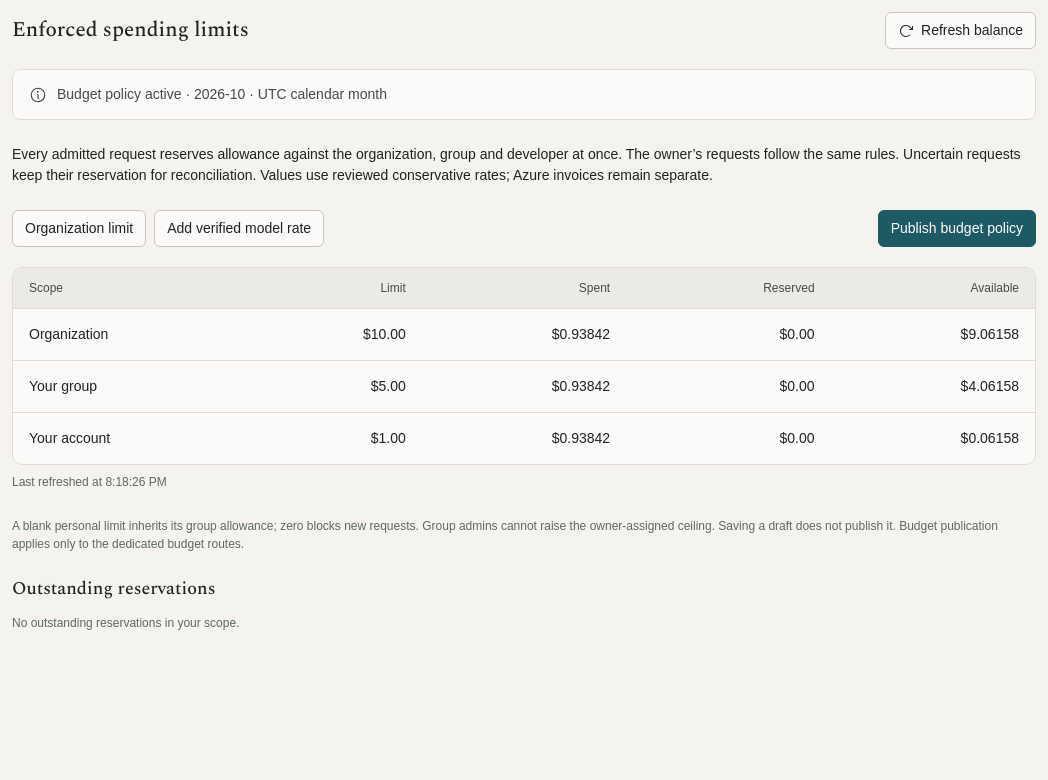
Test case: budget table refresh › retains last loaded balances after failure, marks them stale and recovers on retry
expect the text "$0.06158" is shown: met, box [831,412,1035,464]
Click the button "Refresh balance" at (960, 30), box [885,12,1036,49]
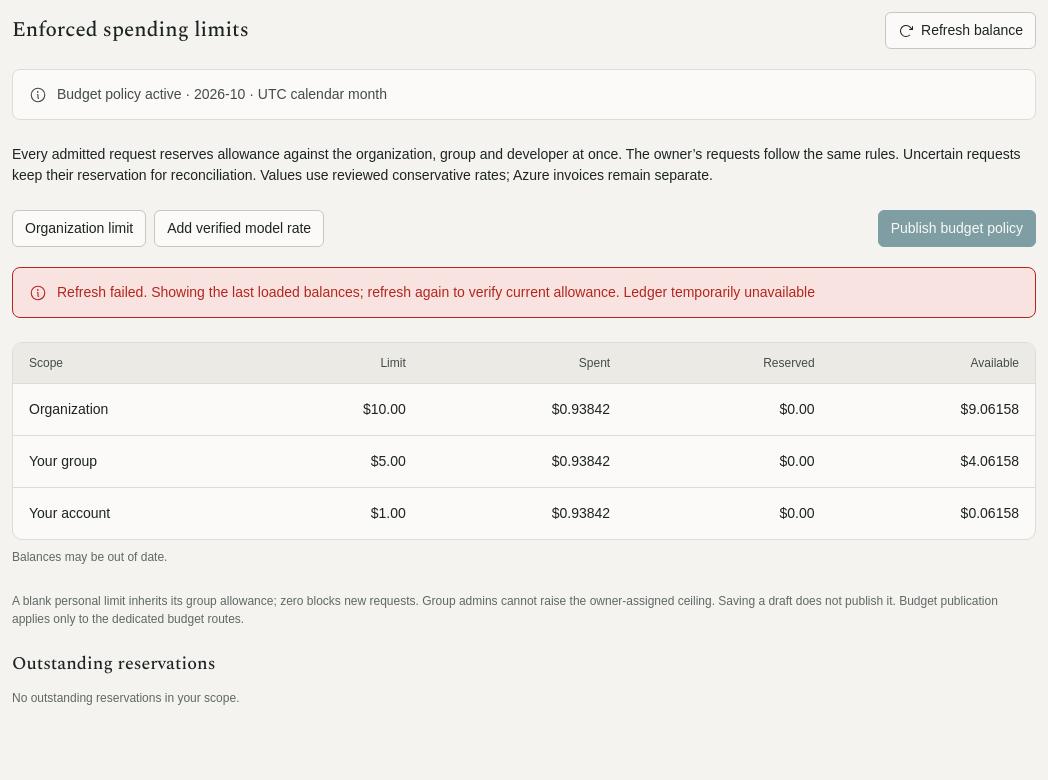
expect the 1st message shows "Showing the last loaded balances": met, box [57,284,624,300]
expect the message "Balances may be out of date." is shown: met, box [12,550,167,564]
expect the button "Publish budget policy" is disabled: met, box [878,210,1036,247]
Click the button "Refresh balance" at (960, 30), box [885,12,1036,49]
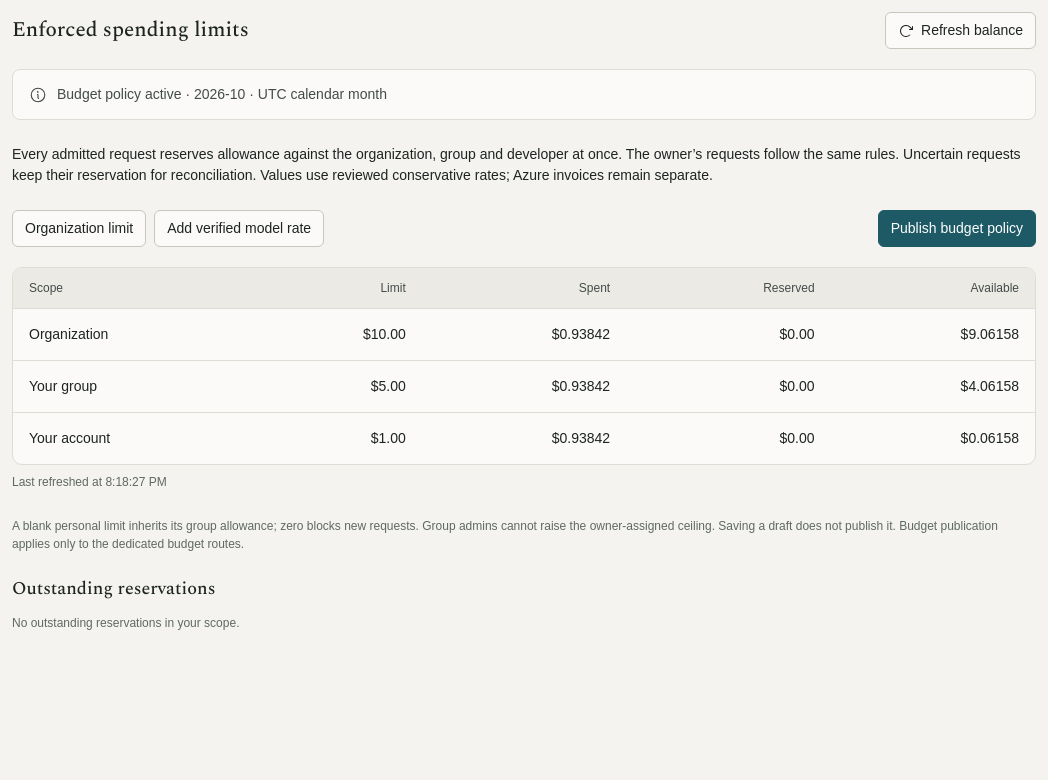
expect the text "Last refreshed at 8:18:27 PM" is shown: met, box [12,475,167,489]
expect the button "Publish budget policy" is enabled: met, box [878,210,1036,247]
